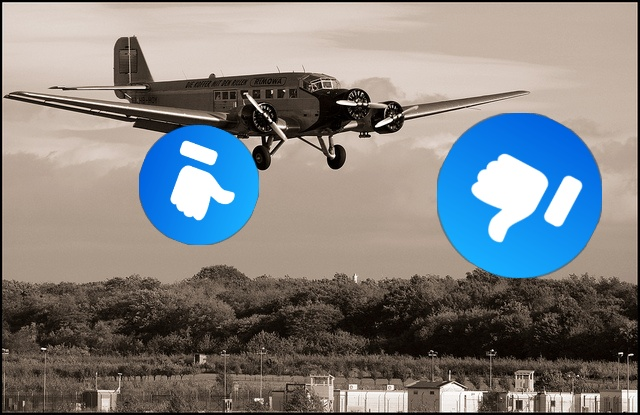like: (437, 113, 602, 278), (139, 125, 259, 245)
